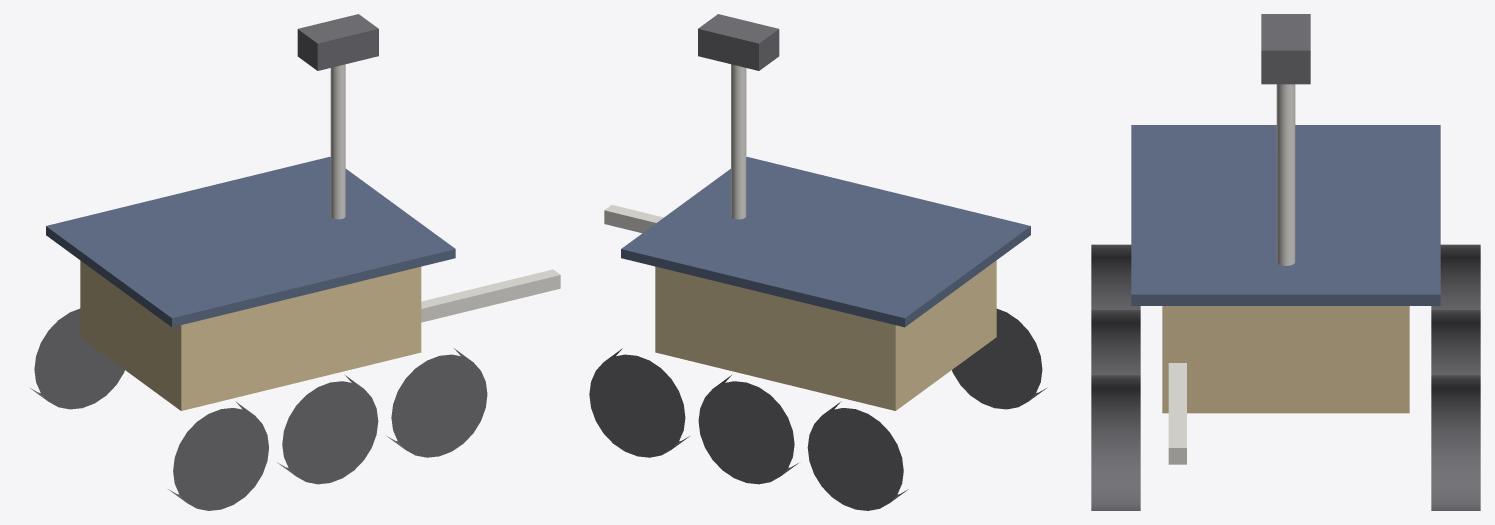
Rendered from opportunity.glb.
The picture shows the model from 3 angles, left to right: view 1: azimuth 30°, elevation 25°; view 2: azimuth 150°, elevation 25°; view 3: azimuth 270°, elevation 25°; orthographic projection. The views are drawn at different scales.
Parts seen in each view (by area): view 1: solar_deck, body, wheel_right_2, wheel_right_0, wheel_right_1, wheel_left_0, pancam, arm, mast; view 2: solar_deck, body, wheel_left_2, wheel_left_0, wheel_left_1, wheel_right_0, pancam, mast, arm; view 3: solar_deck, body, wheel_left_2, wheel_right_2, mast, pancam, wheel_left_1, wheel_right_1, wheel_left_0, wheel_right_0, arm.
Boxes of the visible parts, x1,y1,x2,y2 form: solar_deck: (46,156,455,327); body: (80,260,421,410); wheel_right_2: (387,348,487,457); wheel_right_0: (168,401,268,510); wheel_right_1: (277,374,378,484); wheel_left_0: (29,308,124,409); pancam: (297,14,378,70); arm: (421,269,560,322); mast: (330,64,345,219); solar_deck: (621,157,1030,327); body: (655,260,996,410); wheel_left_2: (589,348,689,457); wheel_left_0: (807,401,908,510); wheel_left_1: (698,375,798,484); wheel_right_0: (952,308,1047,409); pancam: (698,14,779,70); mast: (731,64,746,219); arm: (604,205,663,233); solar_deck: (1131,125,1440,305); body: (1162,306,1409,413); wheel_left_2: (1431,375,1480,510); wheel_right_2: (1091,375,1140,510); mast: (1276,84,1295,265); pancam: (1261,14,1310,84); wheel_left_1: (1431,310,1480,375); wheel_right_1: (1091,310,1140,375); wheel_left_0: (1431,244,1480,309); wheel_right_0: (1091,244,1140,309); arm: (1168,363,1186,464).
Size of the model in its own units: 1.92 by 1.64 by 1.26.
